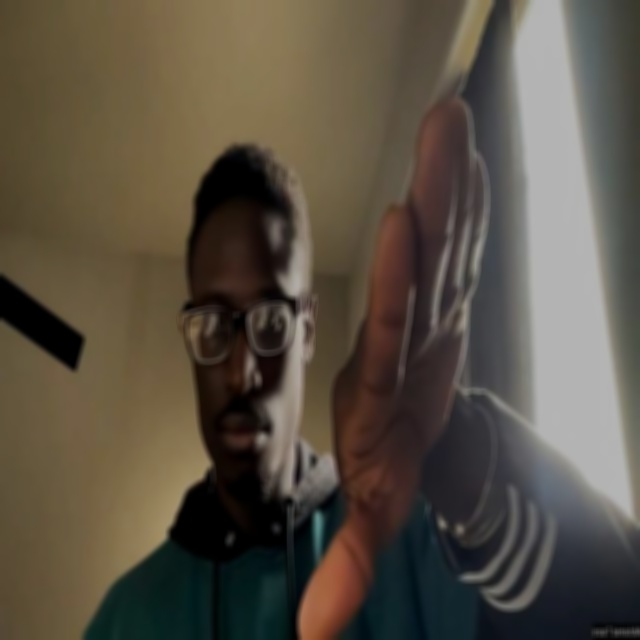Paper: (296, 93, 488, 640)
